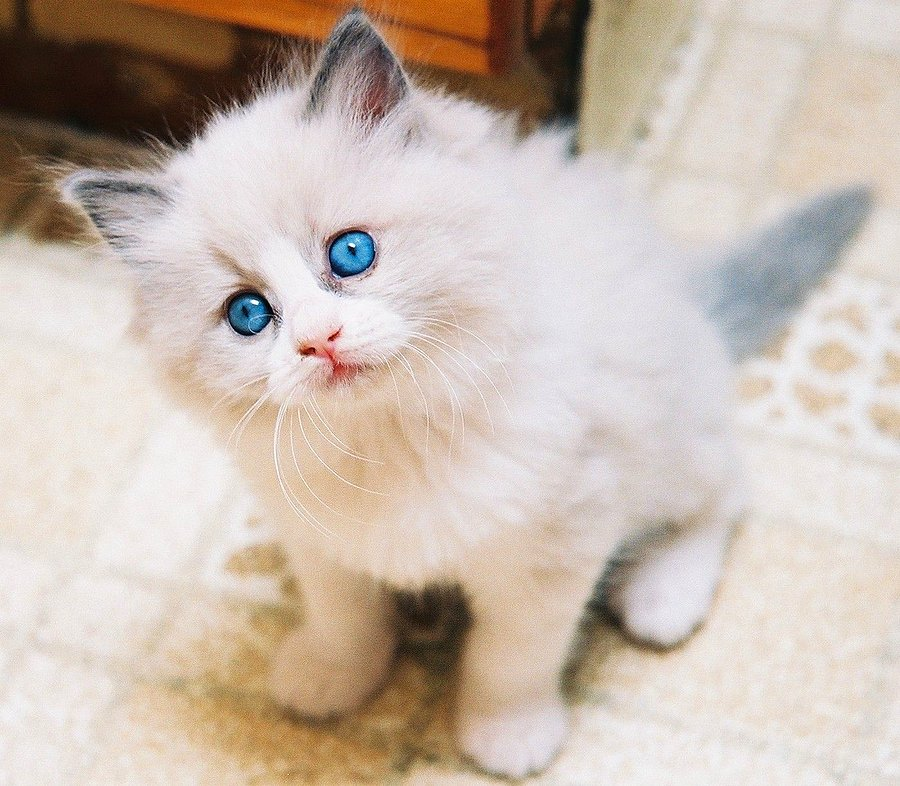cat: (102, 79, 607, 482)
